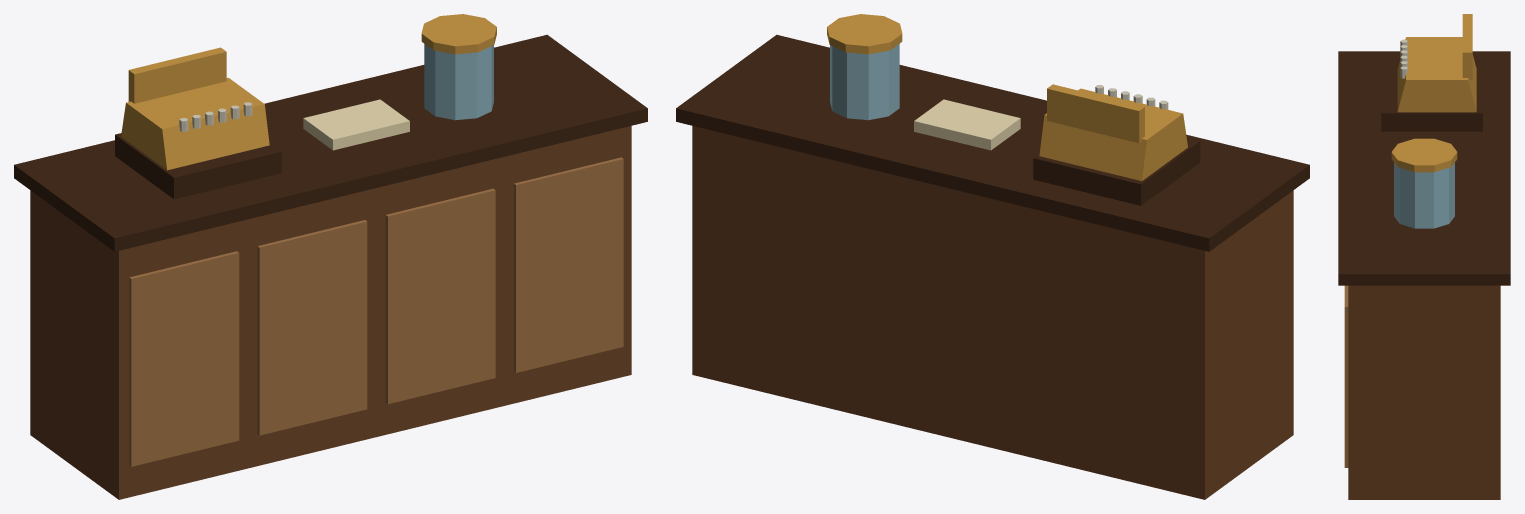
File: SM_Store_Counter.obj
The picture shows the model from 3 angles, left to right: view 1: azimuth 30°, elevation 25°; view 2: azimuth 150°, elevation 25°; view 3: azimuth 270°, elevation 25°; orthographic projection. The views are drawn at different scales.
Visible parts, largest first — view 1: SM_Store_Counter; view 2: SM_Store_Counter; view 3: SM_Store_Counter.
Boxes of the visible parts, box(x1,y1,x2,y2) form: SM_Store_Counter: box(14, 14, 647, 499); SM_Store_Counter: box(676, 14, 1309, 499); SM_Store_Counter: box(1338, 14, 1510, 499).
Bounding box in the file's own units: 2.08 × 1.33 × 0.68.
